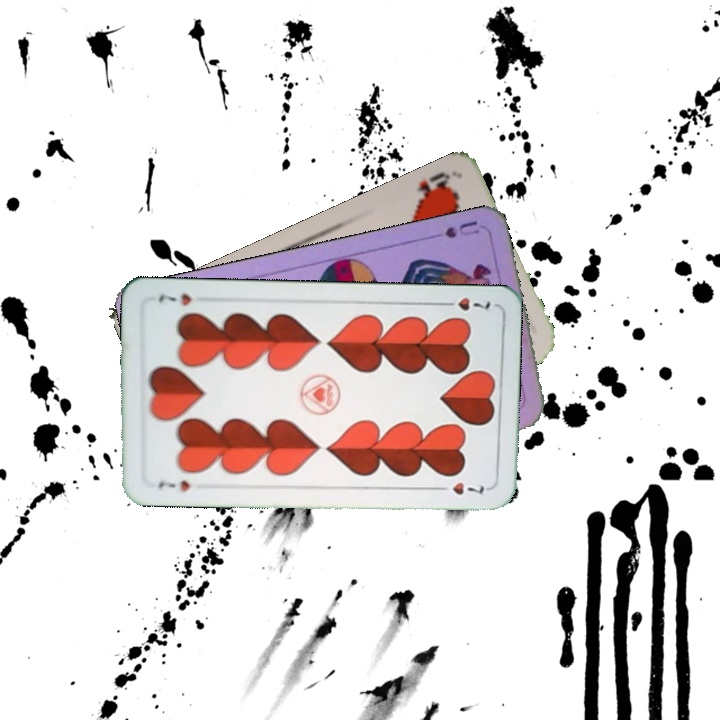H7: (436, 292, 493, 314), (154, 473, 193, 494)
HO: (412, 168, 453, 205)
SU: (423, 216, 482, 242)
